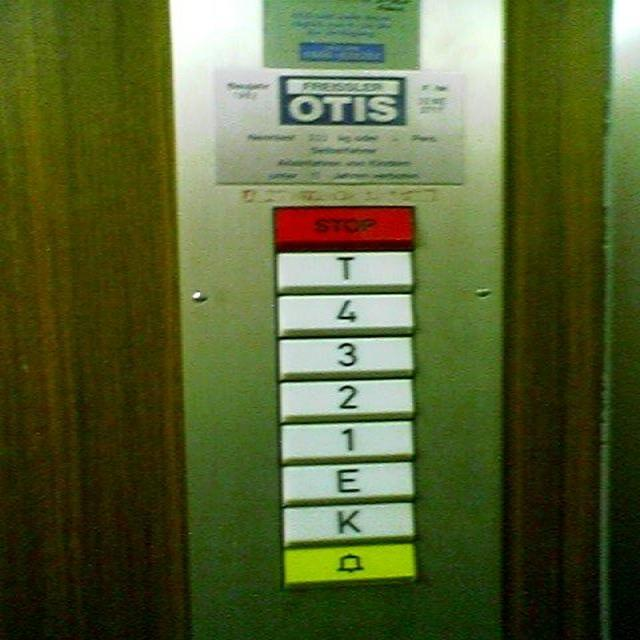1: (274, 416, 418, 465)
2: (273, 374, 420, 420)
3: (274, 331, 414, 379)
4: (273, 289, 416, 333)
E: (276, 459, 416, 502)
K: (278, 497, 418, 546)
T: (271, 246, 416, 293)
alarm: (277, 539, 420, 585)
stop: (268, 200, 417, 250)
